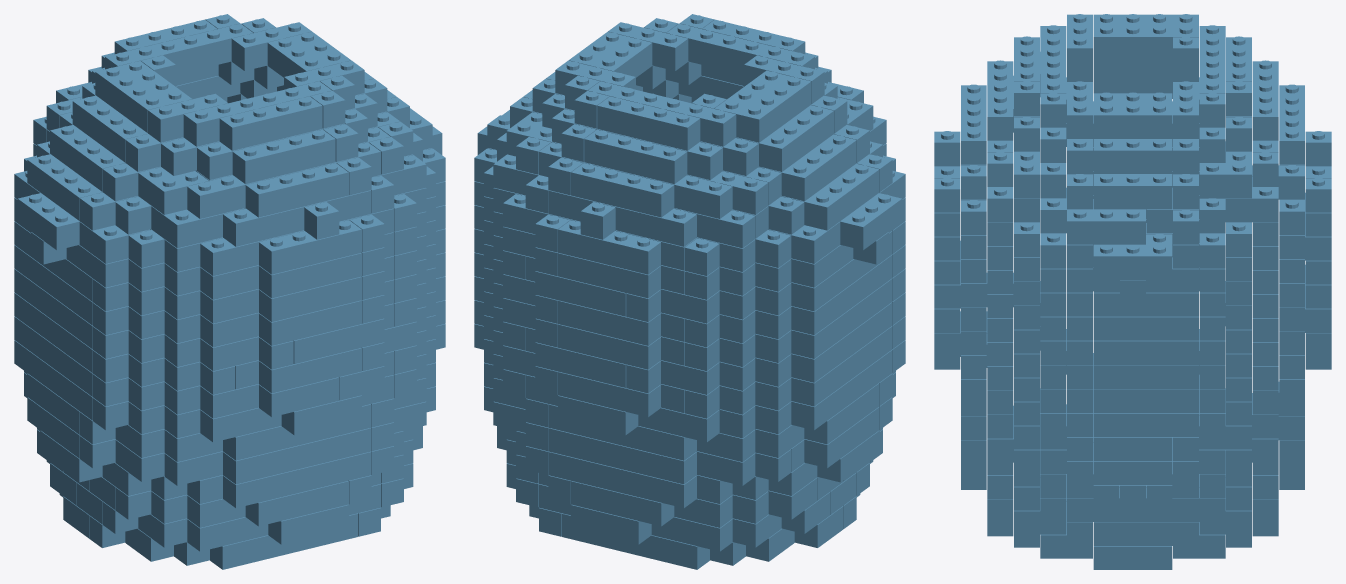
File: 105_bowl_L5.glb
3 renders of one model, left to right at view 1: azimuth 30°, elevation 25°; view 2: azimuth 150°, elevation 25°; view 3: azimuth 270°, elevation 25°, orthographic.
Size of the model in its own units: 16.98 by 18.13 by 14.98.
